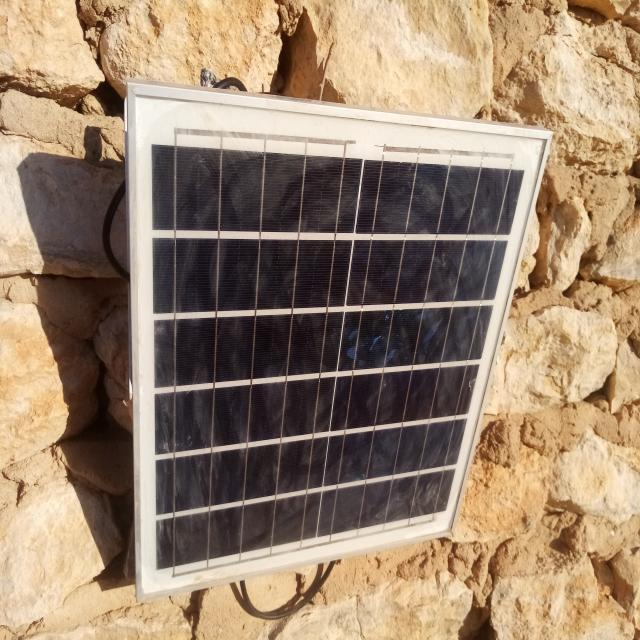faulty: (131, 90, 551, 599)
